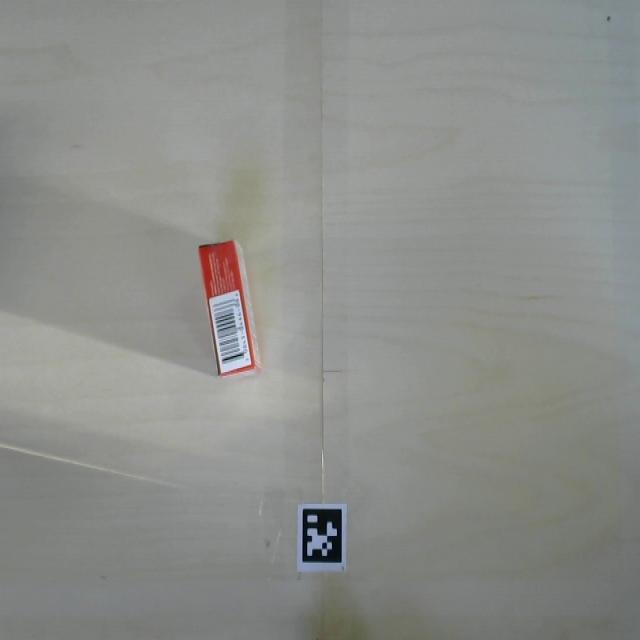tylenol: (196, 234, 270, 396)
